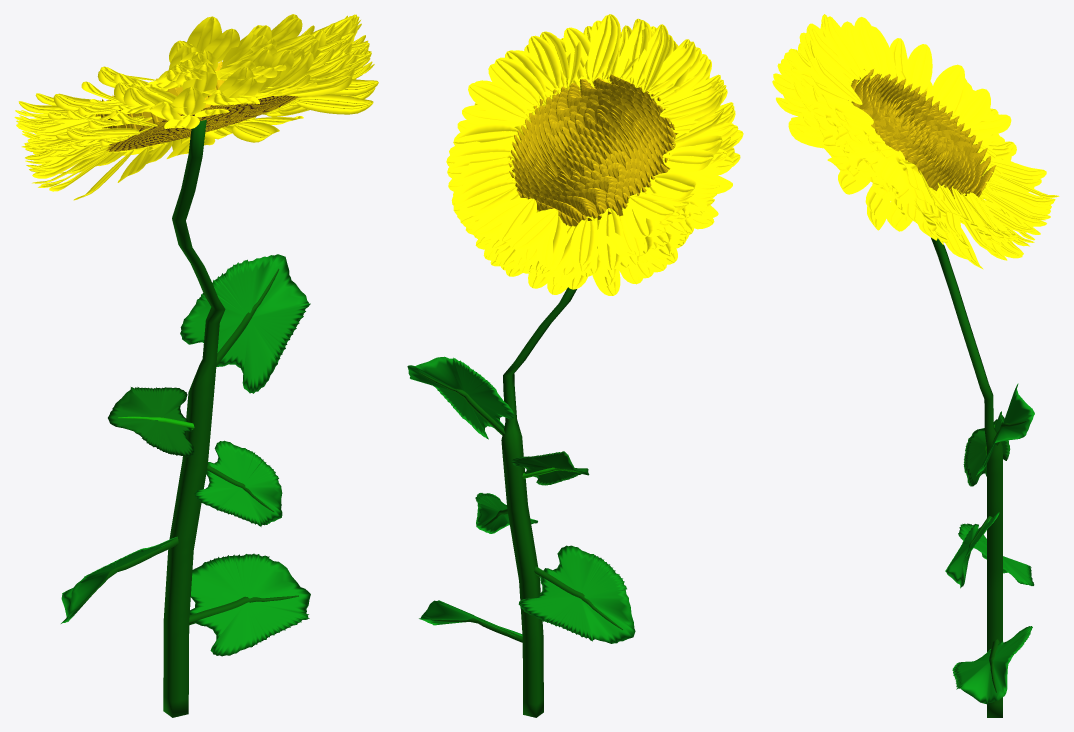
Rendered from Tournesol_Croissance_3.fbx.
3 views of the same model, side by side, from view 1: azimuth 30°, elevation 25°; view 2: azimuth 150°, elevation 25°; view 3: azimuth 270°, elevation 25° (orthographic). The views are drawn at different scales.
Visible parts, largest first — view 1: Feuille.007, Feuille.010, Feuille.006, Feuille.009, Feuille.011, Icosphere, Feuille.008, Circle, BézierCurve.050, BézierCurve.068, BézierCurve.008, BézierCurve.026 (+5 smaller); view 2: Icosphere, Feuille.007, Feuille.008, Feuille.010, Feuille.011, BézierCurve.197, BézierCurve.005, Feuille.006, BézierCurve.199, BézierCurve.011, BézierCurve.214, Feuille.009 (+21 smaller); view 3: Icosphere, Feuille.007, Feuille.006, Feuille.010, Feuille.011, BézierCurve.010, Feuille.009, BézierCurve.206, BézierCurve.008, BézierCurve.225, BézierCurve.178, Feuille.008 (+9 smaller).
Part boxes in pixels (x1,y1,x2,y2): Feuille.007: [163, 119, 225, 717]; Feuille.010: [180, 254, 310, 393]; Feuille.006: [189, 553, 310, 656]; Feuille.009: [194, 440, 282, 526]; Feuille.011: [108, 387, 194, 457]; Icosphere: [95, 61, 298, 151]; Feuille.008: [61, 536, 178, 623]; Circle: [109, 95, 297, 150]; BézierCurve.050: [294, 94, 373, 114]; BézierCurve.068: [287, 75, 352, 96]; BézierCurve.008: [187, 16, 221, 51]; BézierCurve.026: [232, 121, 279, 142]; Icosphere: [508, 74, 678, 226]; Feuille.007: [501, 287, 576, 717]; Feuille.008: [518, 545, 635, 643]; Feuille.010: [407, 356, 514, 439]; Feuille.011: [511, 451, 589, 485]; BézierCurve.197: [468, 82, 529, 122]; BézierCurve.005: [587, 15, 617, 80]; Feuille.006: [419, 600, 522, 642]; BézierCurve.199: [453, 179, 517, 215]; BézierCurve.011: [509, 208, 558, 250]; BézierCurve.214: [453, 123, 520, 146]; Feuille.009: [475, 493, 537, 533]; Icosphere: [848, 69, 996, 198]; Feuille.007: [931, 237, 1002, 717]; Feuille.006: [952, 626, 1032, 704]; Feuille.010: [976, 383, 1034, 475]; Feuille.011: [963, 411, 1010, 486]; BézierCurve.010: [854, 17, 886, 74]; Feuille.009: [945, 512, 999, 588]; BézierCurve.206: [931, 64, 964, 108]; BézierCurve.008: [825, 16, 863, 77]; BézierCurve.225: [905, 44, 932, 93]; BézierCurve.178: [956, 88, 990, 125]; Feuille.008: [958, 523, 1034, 585].
Size of the model in its own units: 86.31 by 201 by 77.78.
